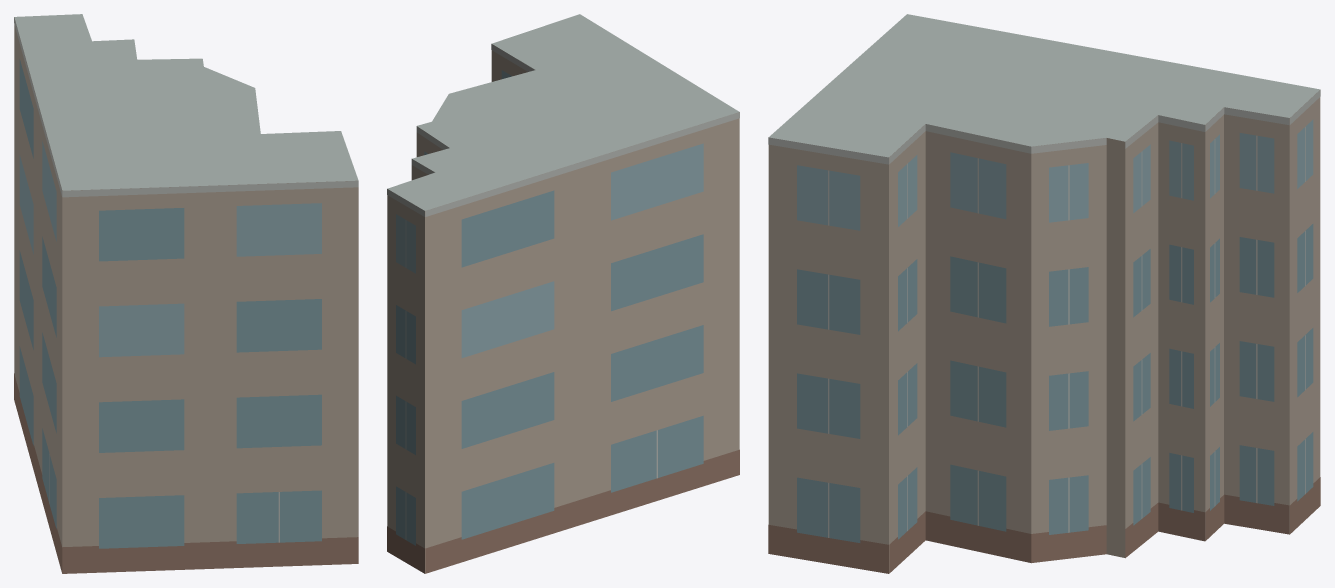
Rendered from survey-upis-32566423.glb.
3 renders of one model, left to right at view 1: azimuth 30°, elevation 25°; view 2: azimuth 150°, elevation 25°; view 3: azimuth 270°, elevation 25°, orthographic. The views are drawn at different scales.
Parts seen in each view (by area): view 1: survey-upis-32566423.tmp; view 2: survey-upis-32566423.tmp; view 3: survey-upis-32566423.tmp.
Part boxes in pixels (left/top/right/bottom): survey-upis-32566423.tmp: left=14, top=14, right=358, bottom=573; survey-upis-32566423.tmp: left=387, top=14, right=739, bottom=573; survey-upis-32566423.tmp: left=768, top=14, right=1320, bottom=573.
Bounding box in the file's own units: 10.42 × 14.1 × 16.95.
